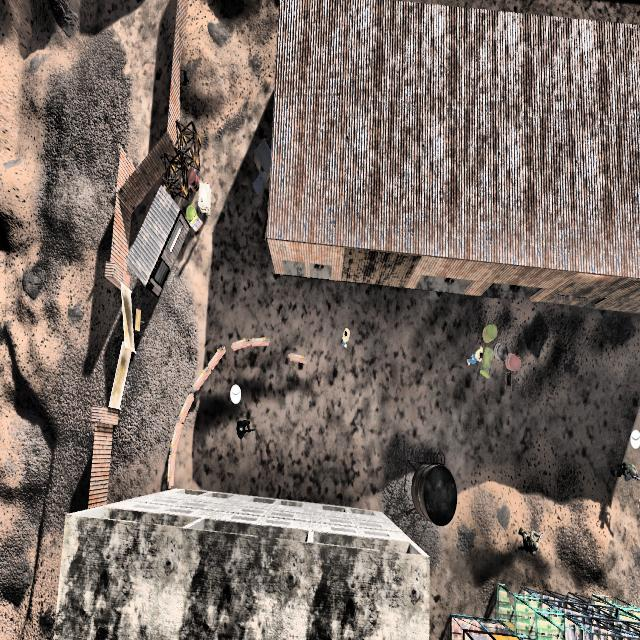bad: (613, 448, 640, 500), (518, 516, 544, 567), (232, 415, 254, 446)
good: (464, 340, 484, 374), (338, 319, 354, 359)
